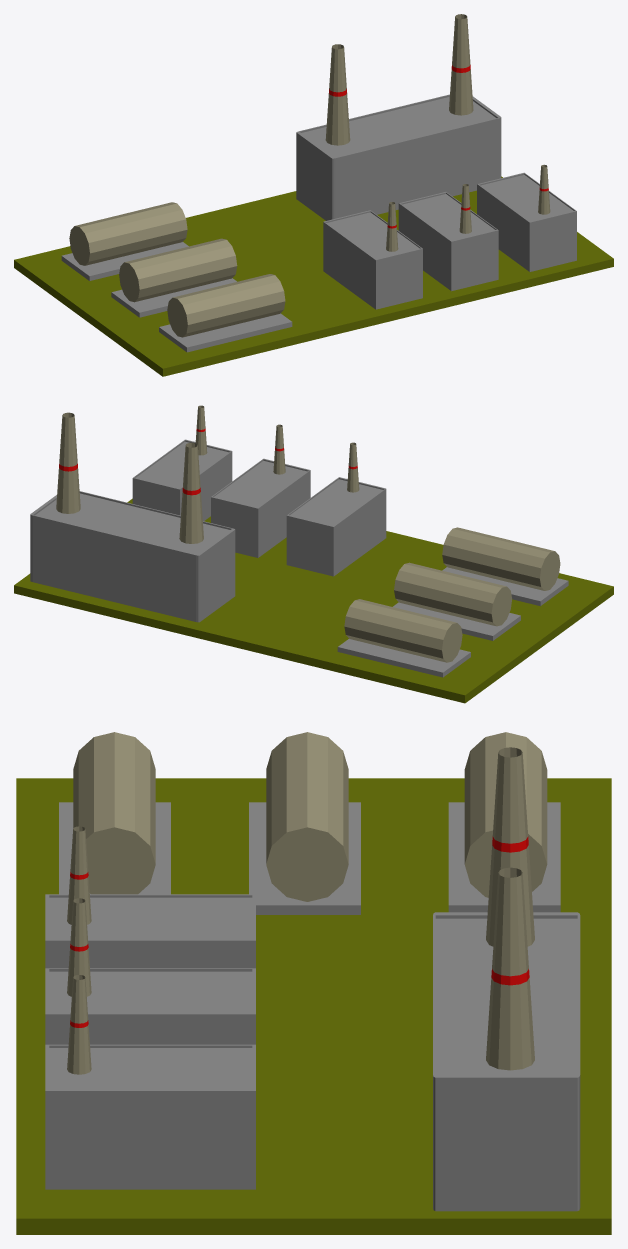
File: FACT.fbx
3 views of the same model, one above another, from view 1: azimuth 30°, elevation 25°; view 2: azimuth 150°, elevation 25°; view 3: azimuth 270°, elevation 25° (orthographic). The views are drawn at different scales.
Visible parts, largest first — view 1: Cube, Cube.001, Cube.007, Cube.002, Cube.003, Cylinder.002, Cylinder.004, Cylinder.003, Cube.006, Cylinder, Cylinder.001, Cube.004 (+4 smaller); view 2: Cube, Cube.001, Cube.007, Cube.003, Cylinder.004, Cylinder.002, Cylinder.003, Cube.002, Cube.004, Cylinder, Cylinder.001, Cube.005 (+4 smaller); view 3: Cube, Cube.001, Cube.002, Cube.003, Cube.007, Cylinder.003, Cylinder.004, Cylinder.002, Cylinder, Cylinder.001, Cube.005, Cube.004 (+4 smaller).
Part boxes in pixels (bbox=[...]): Cube: bbox=[14, 176, 613, 376]; Cube.001: bbox=[296, 94, 501, 220]; Cube.007: bbox=[323, 210, 422, 309]; Cube.002: bbox=[477, 172, 576, 271]; Cube.003: bbox=[398, 192, 498, 291]; Cylinder.002: bbox=[69, 202, 187, 265]; Cylinder.004: bbox=[167, 274, 285, 337]; Cylinder.003: bbox=[119, 238, 237, 302]; Cube.006: bbox=[159, 313, 292, 352]; Cylinder: bbox=[449, 14, 473, 115]; Cylinder.001: bbox=[325, 44, 350, 145]; Cube.004: bbox=[61, 242, 188, 280]; Cube: bbox=[14, 498, 613, 703]; Cube.001: bbox=[30, 491, 235, 622]; Cube.007: bbox=[286, 477, 386, 576]; Cube.003: bbox=[211, 458, 310, 557]; Cylinder.004: bbox=[442, 527, 560, 590]; Cylinder.002: bbox=[344, 599, 462, 662]; Cylinder.003: bbox=[394, 562, 511, 626]; Cube.002: bbox=[132, 439, 232, 521]; Cube.004: bbox=[337, 639, 470, 677]; Cylinder: bbox=[56, 412, 80, 513]; Cylinder.001: bbox=[179, 442, 203, 543]; Cube.005: bbox=[393, 602, 520, 640]; Cube: bbox=[16, 778, 611, 1234]; Cube.001: bbox=[433, 912, 580, 1211]; Cube.002: bbox=[45, 1044, 255, 1189]; Cube.003: bbox=[45, 968, 255, 1044]; Cube.007: bbox=[45, 894, 255, 968]; Cylinder.003: bbox=[266, 732, 348, 901]; Cylinder.004: bbox=[73, 732, 155, 894]; Cylinder.002: bbox=[464, 732, 547, 897]; Cylinder: bbox=[486, 867, 534, 1070]; Cylinder.001: bbox=[486, 747, 534, 946]; Cube.005: bbox=[249, 802, 360, 914]; Cube.004: bbox=[448, 802, 560, 912].
Bounding box in the file's own units: 157 × 55.33 × 89.47.
